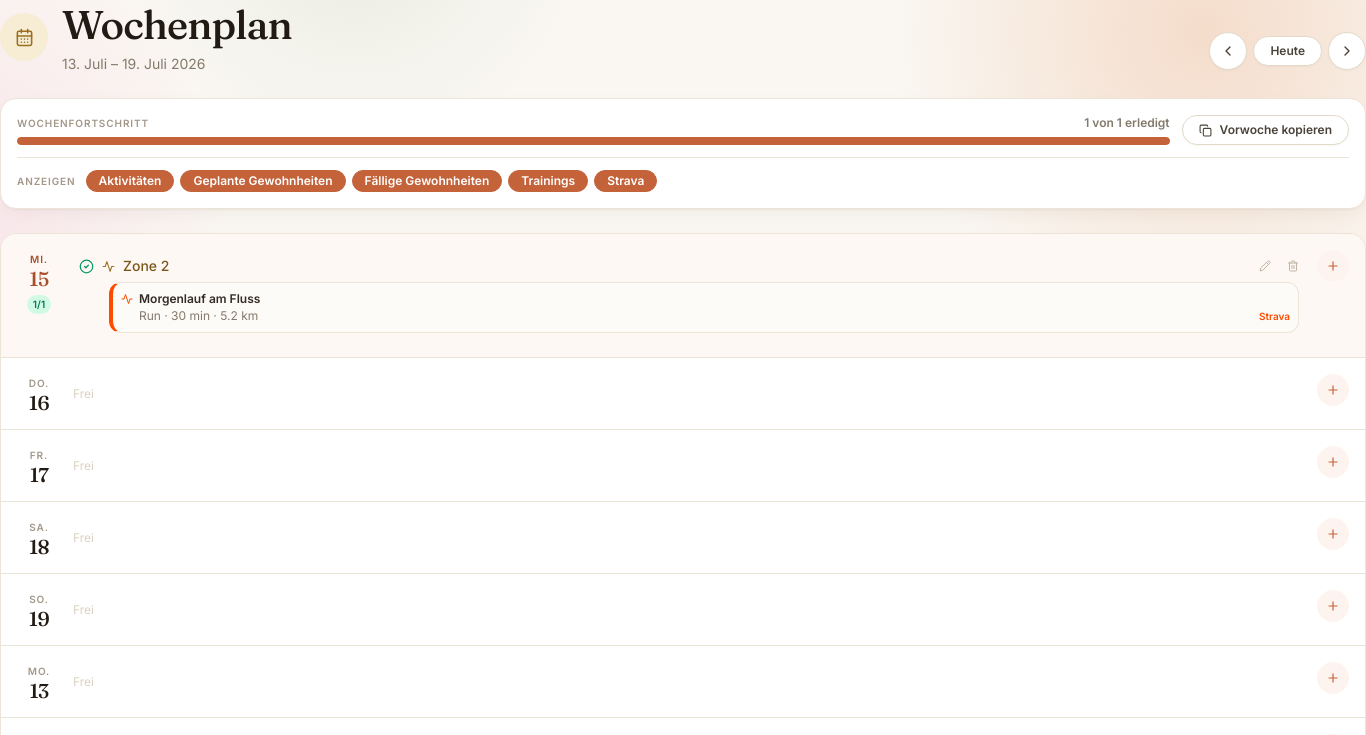
Planner – planned trainings › opens the detail modal on card click with all matches listed
Click the text "Zone 2": click(146, 266) [123,256,169,276]
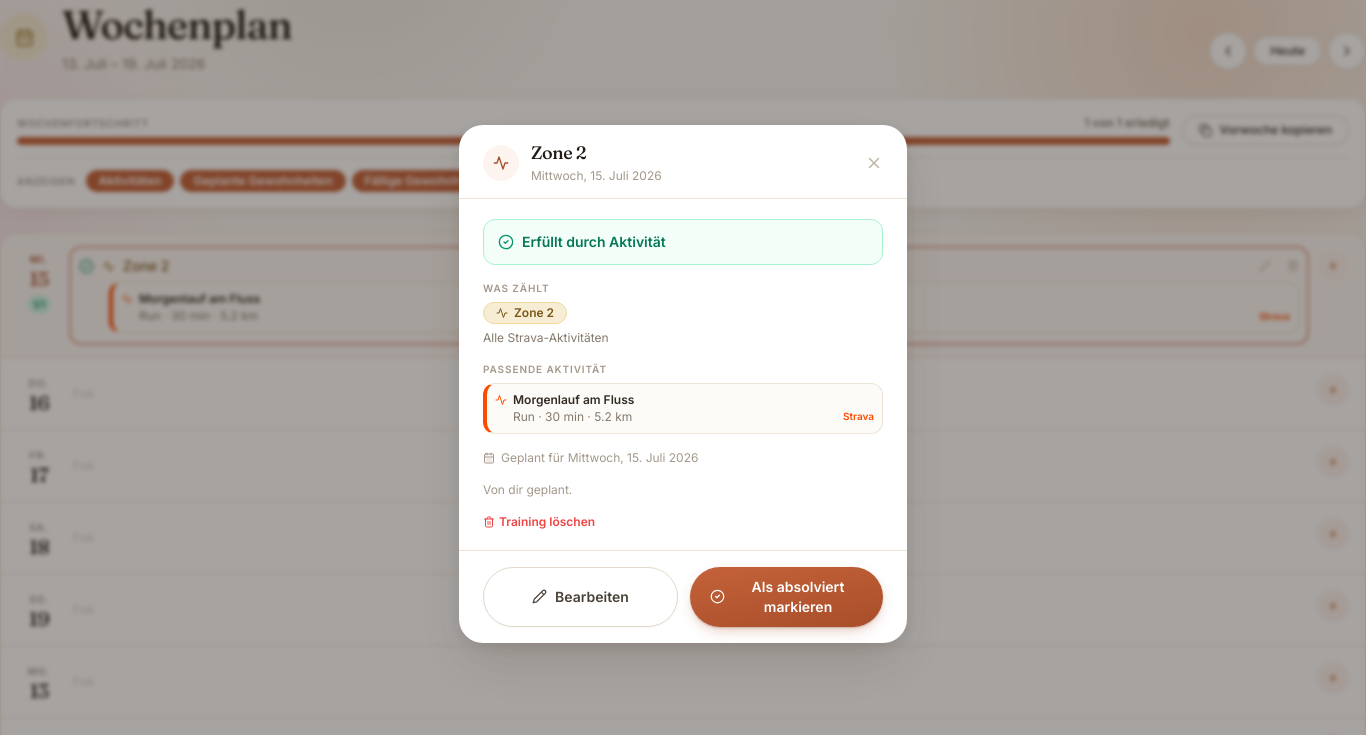
Check: the text "Erfüllt durch Aktivität" is shown, box [522,232,666,252]
Check: the text "Passende Aktivität" is shown, box [483,363,607,375]
Check: the button "Als absolviert markieren" is shown, box [690,567,883,627]
